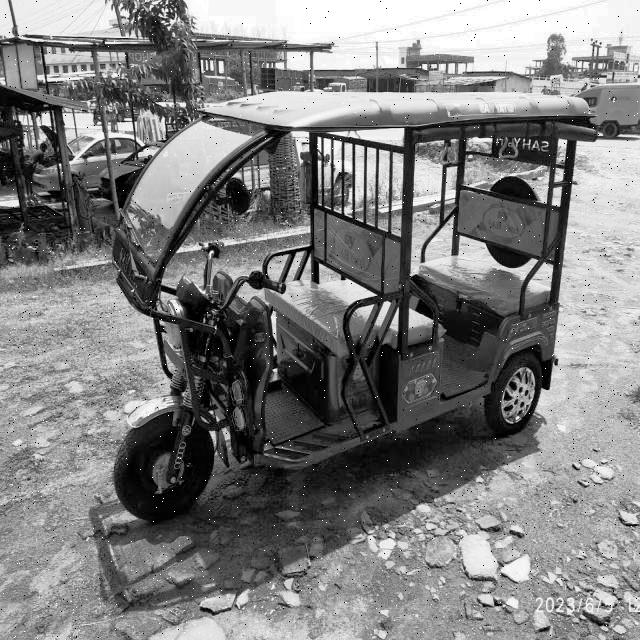Toto: (108, 79, 600, 522)
